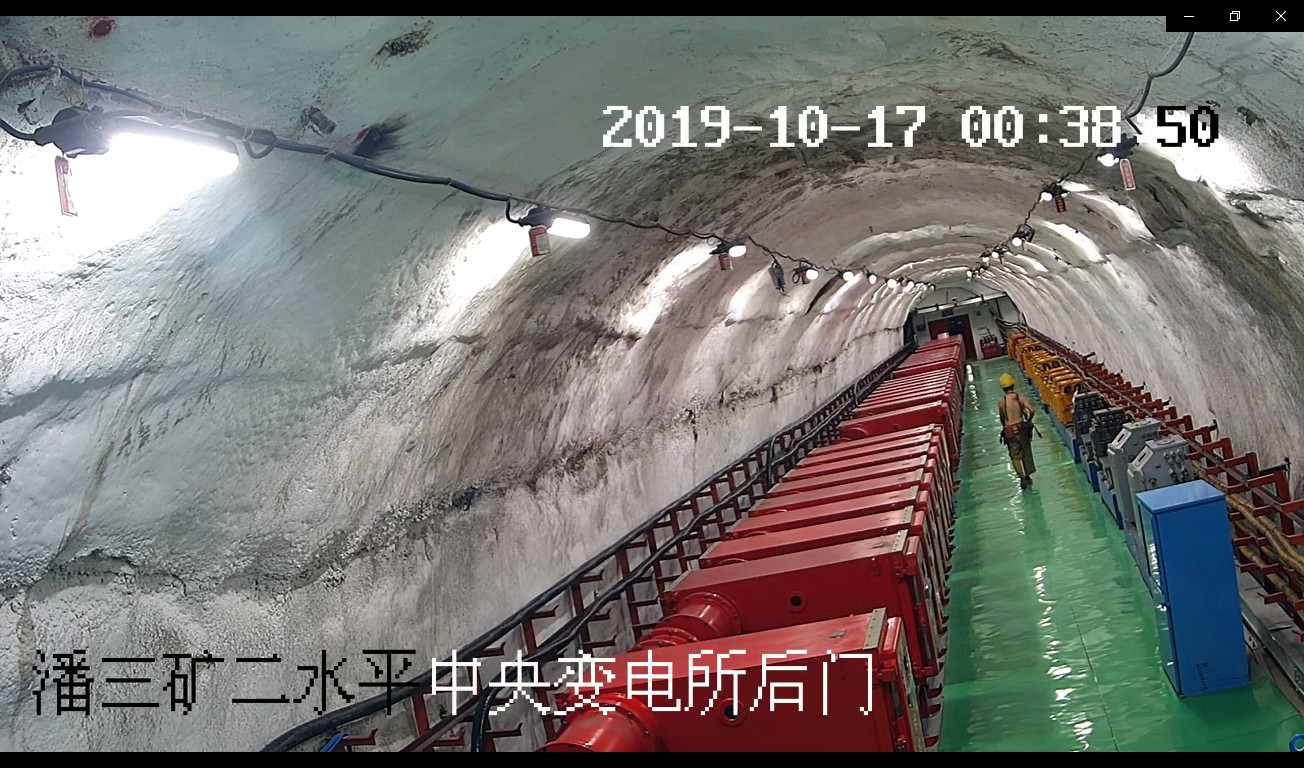helmet: (999, 372, 1015, 388)
